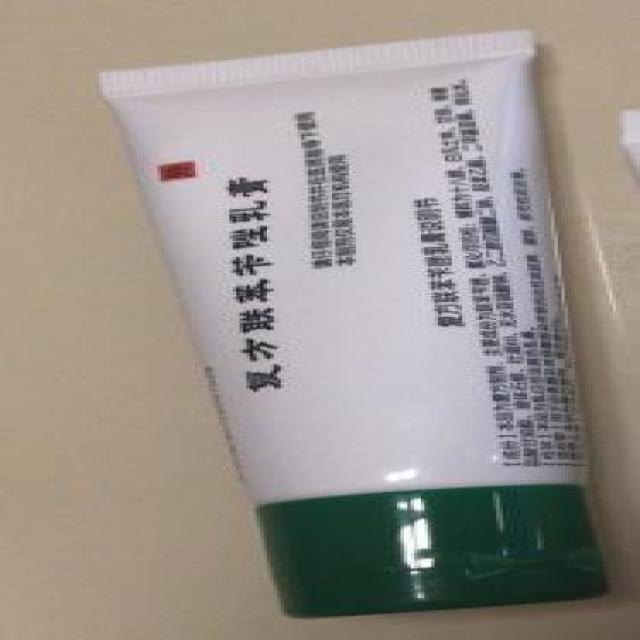-Hazardous waste - medicine inner packaging-: (102, 28, 624, 613)
